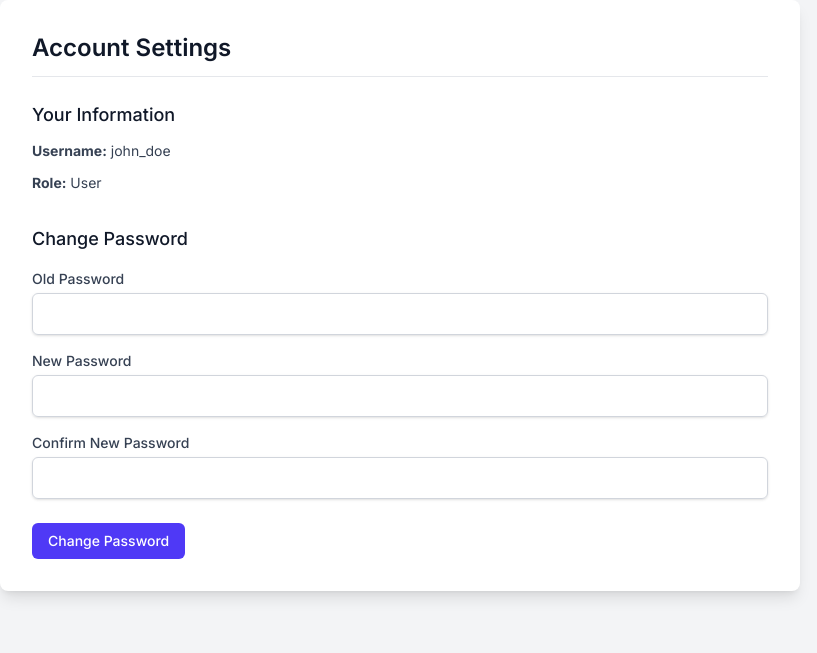
Scenario: Account & Auth Pages Suite › AccountPage › displays error when apiChangePassword fails
This screenshot has width=817, height=653.
In the password field labelled "Old Password": (400, 314) [32,293,768,335], type "wrongPass"
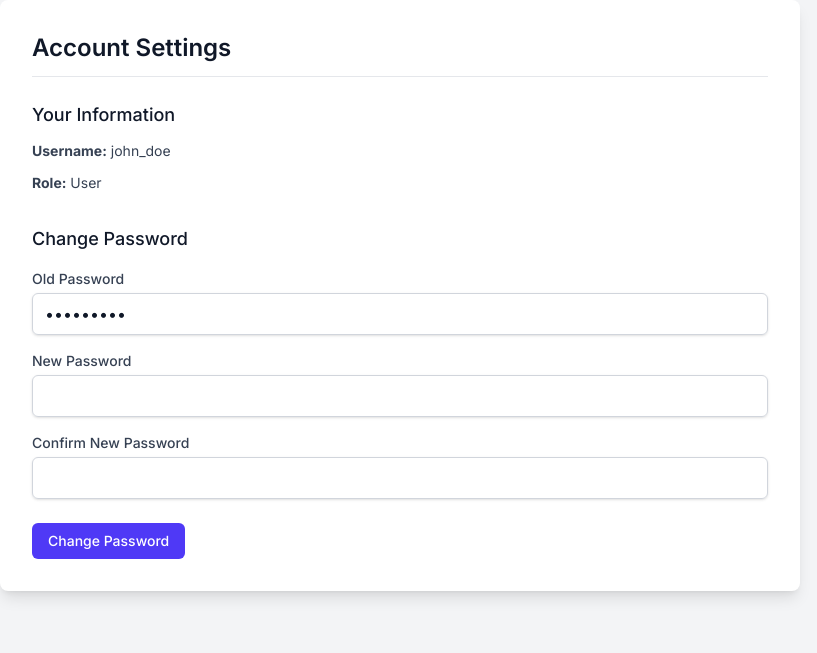
In the password field labelled "New Password": (400, 396) [32,375,768,417], type "NewPass123!"
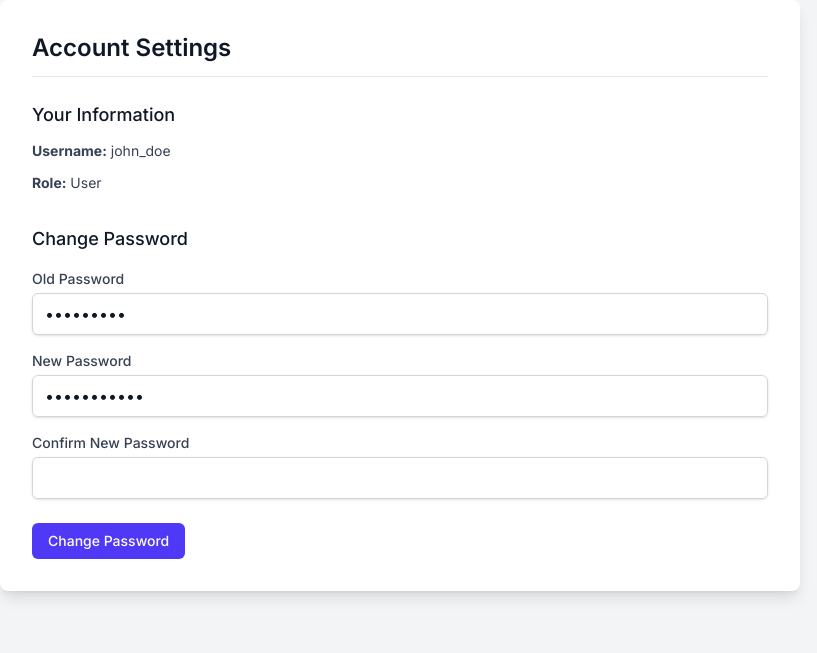
In the password field labelled "Confirm New Password": (400, 478) [32,457,768,499], type "NewPass123!"
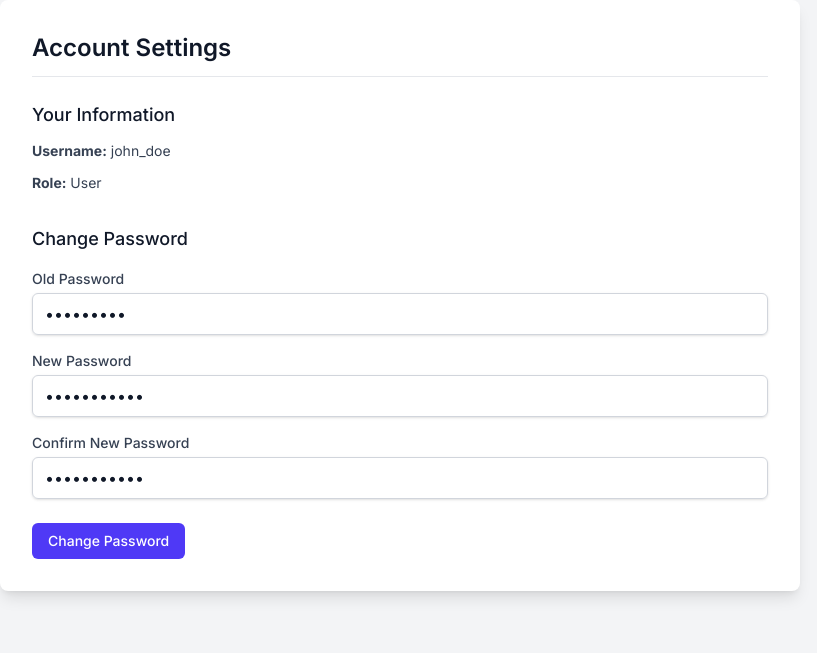
Click the button "Change Password": (109, 541) [32,523,185,559]
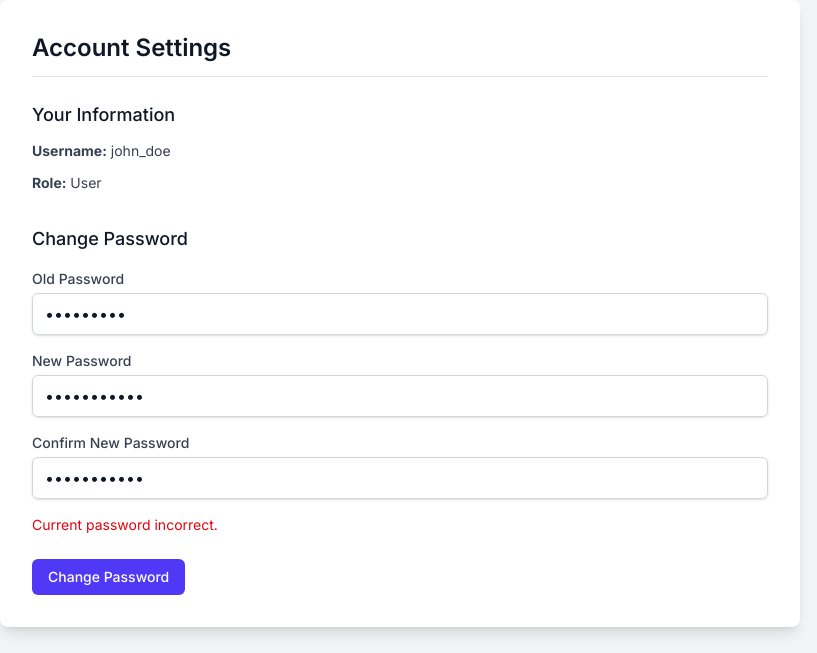
Expected: the text "Current password incorrect." is shown, [32,516,218,533]
